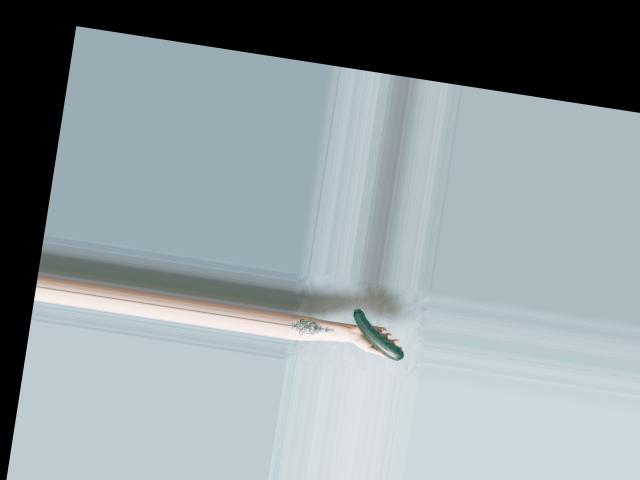cucumber: (348, 307, 410, 360)
